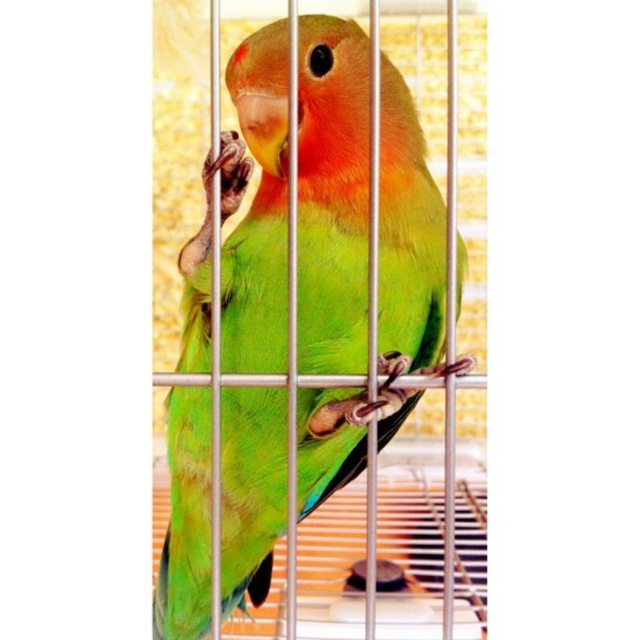Parrot: (146, 10, 476, 639)
